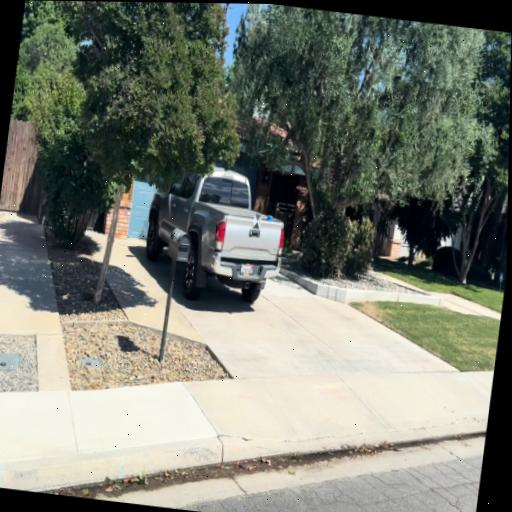target1: (253, 214, 261, 229)
